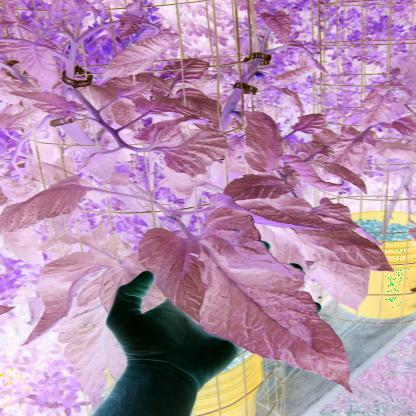tomato leaf: (149, 227, 356, 389), (257, 204, 393, 274), (3, 182, 83, 229), (236, 112, 283, 180), (158, 133, 225, 172), (12, 84, 79, 120), (214, 177, 296, 205), (289, 112, 330, 134)
